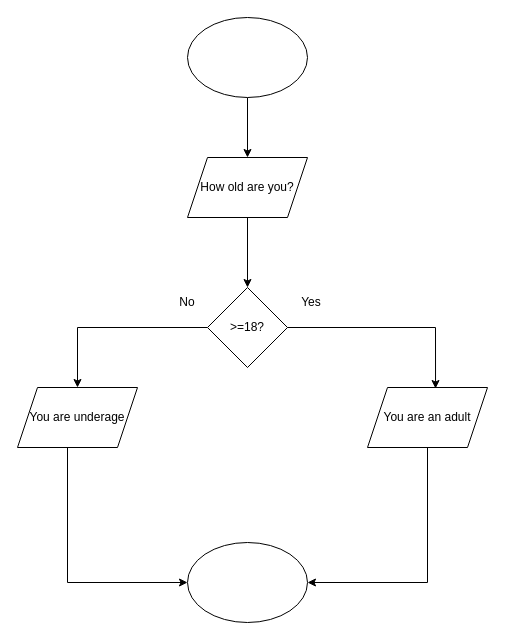
The diagram is 505 pixels wide and 640 high, and some of its shapes have lost their labels. The centre of each missing label's shape, as x and y in pixels:
"Fin" goes at point 247,582.
"Inicio" goes at point 247,57.
